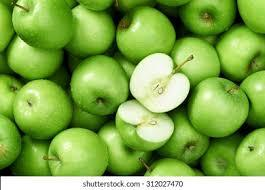apple: (12, 76, 75, 146), (67, 53, 129, 116), (112, 98, 177, 155), (193, 80, 251, 140), (47, 128, 109, 183), (92, 121, 152, 177), (131, 55, 191, 110), (117, 6, 175, 60), (12, 0, 75, 48), (217, 23, 265, 78), (166, 109, 206, 167), (175, 37, 221, 86), (7, 38, 65, 76), (72, 8, 116, 54), (181, 0, 236, 34), (14, 140, 53, 179), (234, 129, 265, 174), (236, 0, 265, 34)
